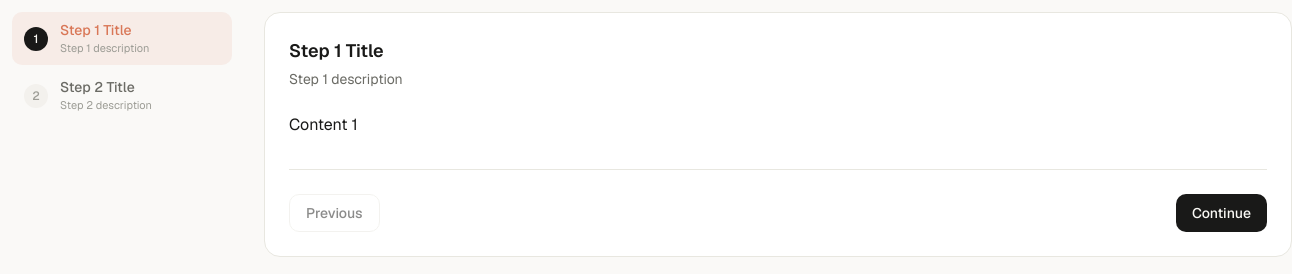
Test: FormWizard › shows Submit button (not Continue) on last step
Step 1. Click the button "Continue" → (1221, 213), box [1176,194,1267,232]
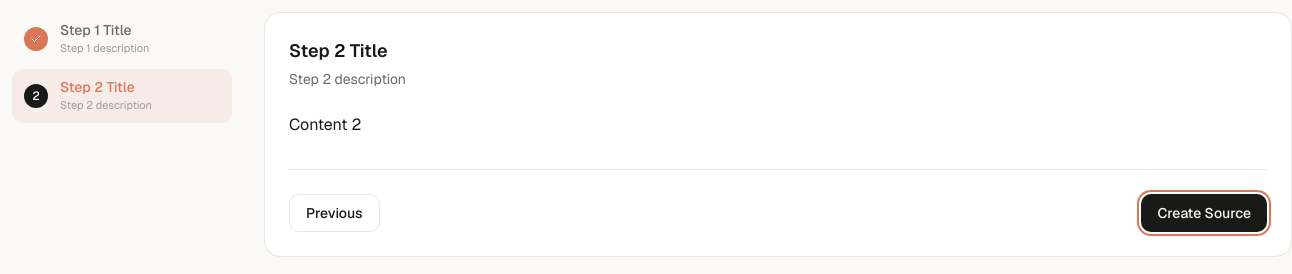
Now the button "Continue" is gone
Now the button "Create Source" is shown, box [1142,194,1267,232]
